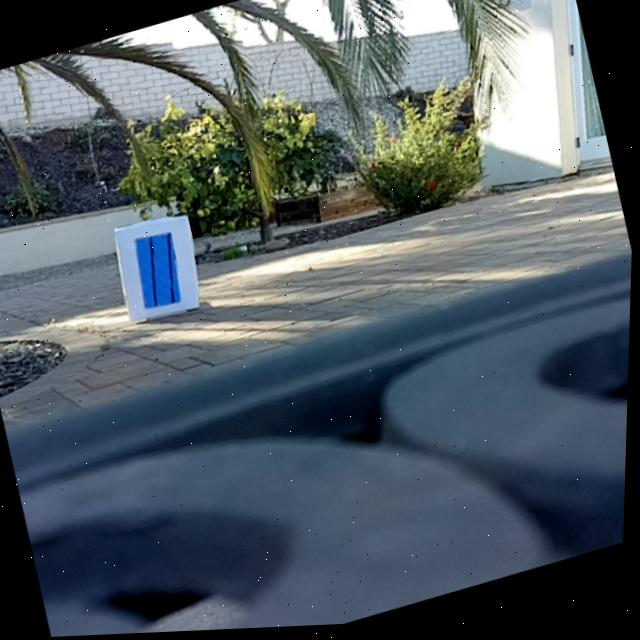led: (128, 226, 191, 317)
